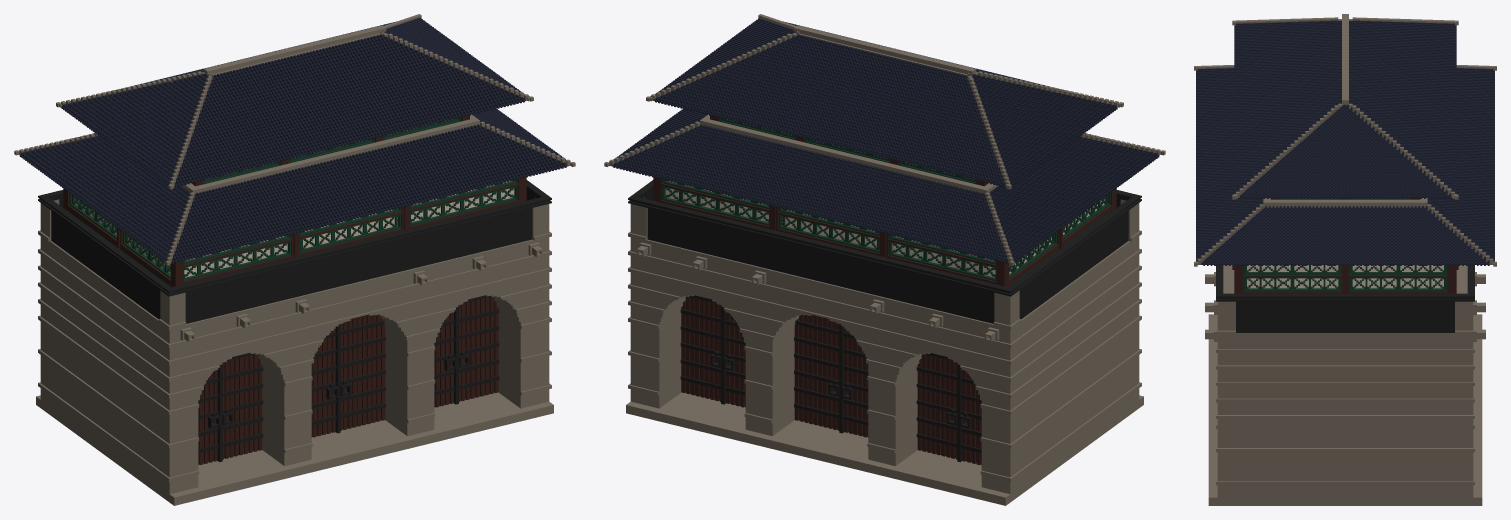
File: Korean castle_house_06.FBX
3 views of the same model, side by side, from view 1: azimuth 30°, elevation 25°; view 2: azimuth 150°, elevation 25°; view 3: azimuth 270°, elevation 25° (orthographic).
Parts seen in each view (by area): view 1: Voxel_Korean_traditional castle-11; view 2: Voxel_Korean_traditional castle-11; view 3: Voxel_Korean_traditional castle-11.
Part boxes in pixels (x1=…): Voxel_Korean_traditional castle-11: x1=14, y1=14, x2=575, y2=505; Voxel_Korean_traditional castle-11: x1=604, y1=14, x2=1165, y2=505; Voxel_Korean_traditional castle-11: x1=1194, y1=14, x2=1496, y2=505.
Bounding box in the file's own units: 512 × 432 × 332.
Materials: 1 (1 with a texture image).
